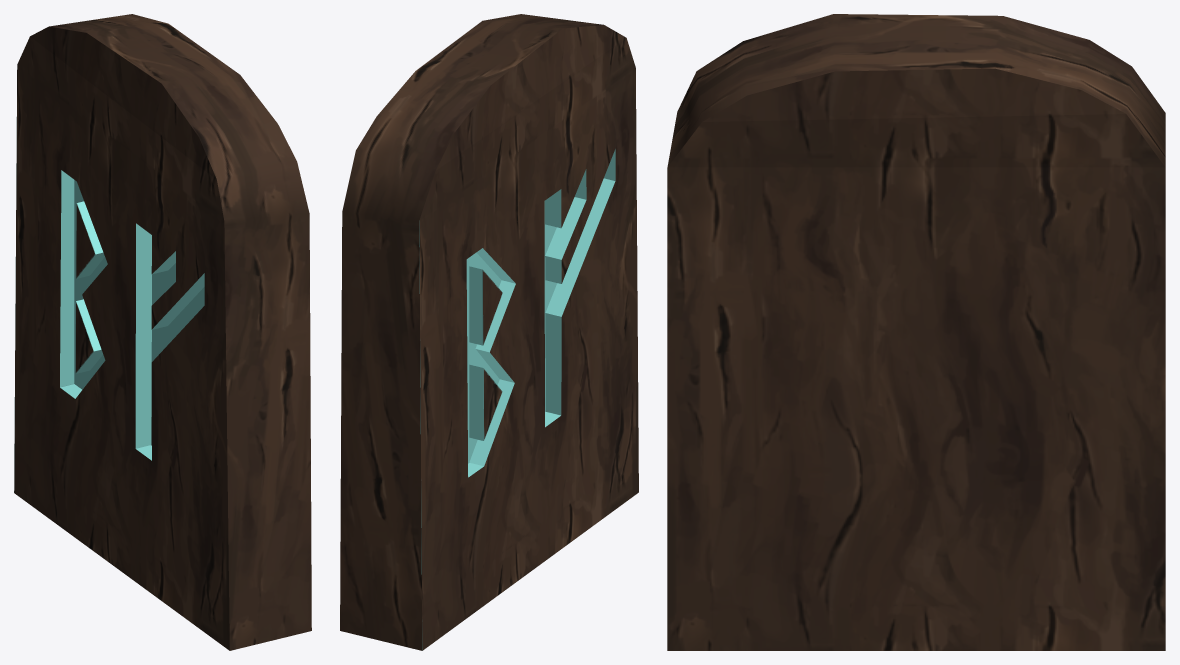
Rendered from Door 9.fbx.
3 renders of one model, left to right at view 1: azimuth 30°, elevation 25°; view 2: azimuth 150°, elevation 25°; view 3: azimuth 270°, elevation 25°, orthographic. The views are drawn at different scales.
Parts seen in each view (by area): view 1: Door_9; view 2: Door_9; view 3: Door_9.
Part boxes in pixels (x1,y1,x2,y2): Door_9: (14,14,311,650); Door_9: (340,14,638,650); Door_9: (667,14,1165,650).
Bounding box in the file's own units: 0.7182 × 4.18 × 3.18.
